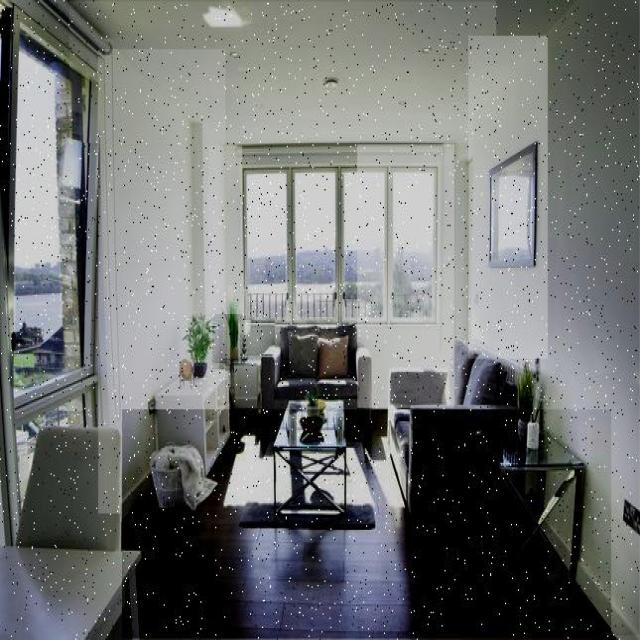Wall: (123, 410, 611, 639), (496, 0, 640, 636), (70, 1, 572, 143), (99, 50, 225, 513), (469, 37, 548, 359), (358, 144, 454, 408), (209, 146, 242, 314), (240, 317, 275, 356), (213, 315, 227, 363)
